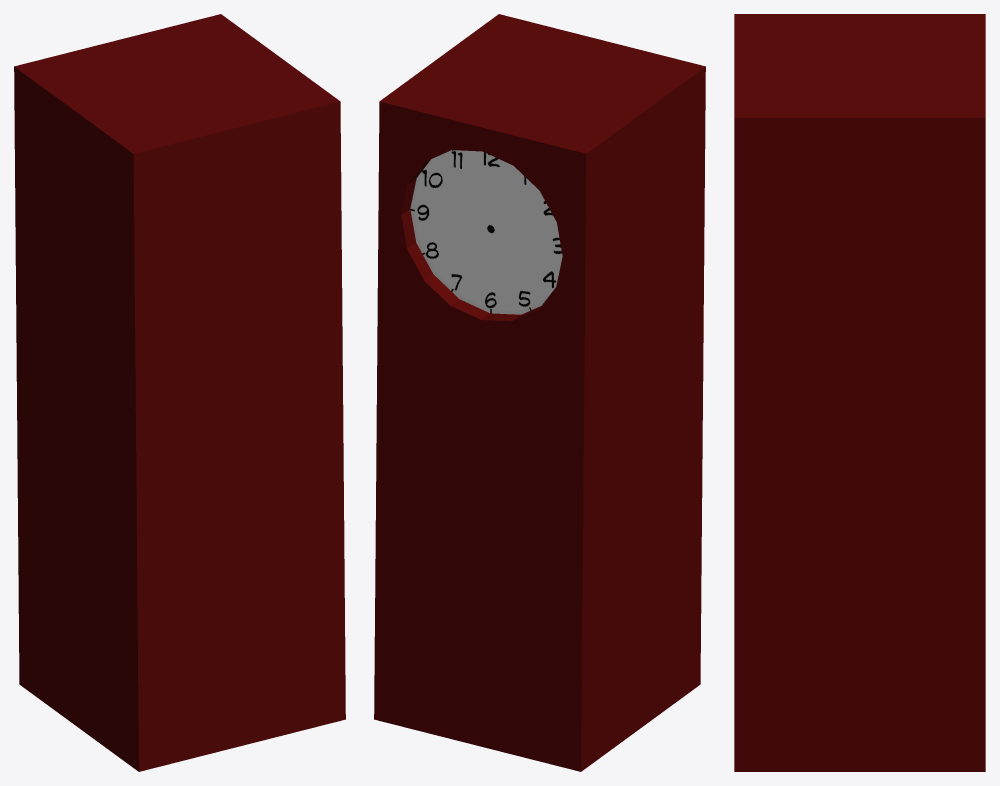
File: Clockpuzzle.glb
The picture shows the model from 3 angles, left to right: view 1: azimuth 30°, elevation 25°; view 2: azimuth 150°, elevation 25°; view 3: azimuth 270°, elevation 25°; orthographic projection. The views are drawn at different scales.
Visible parts, largest first — view 1: Cube; view 2: Cube; view 3: Cube.
Boxes of the visible parts, x1,y1,x2,y2 form: Cube: (14, 14, 345, 771); Cube: (374, 14, 705, 771); Cube: (734, 14, 985, 771).
Size of the model in its own units: 2.05 by 5.74 by 2.
Materials: 2 (1 with a texture image).
